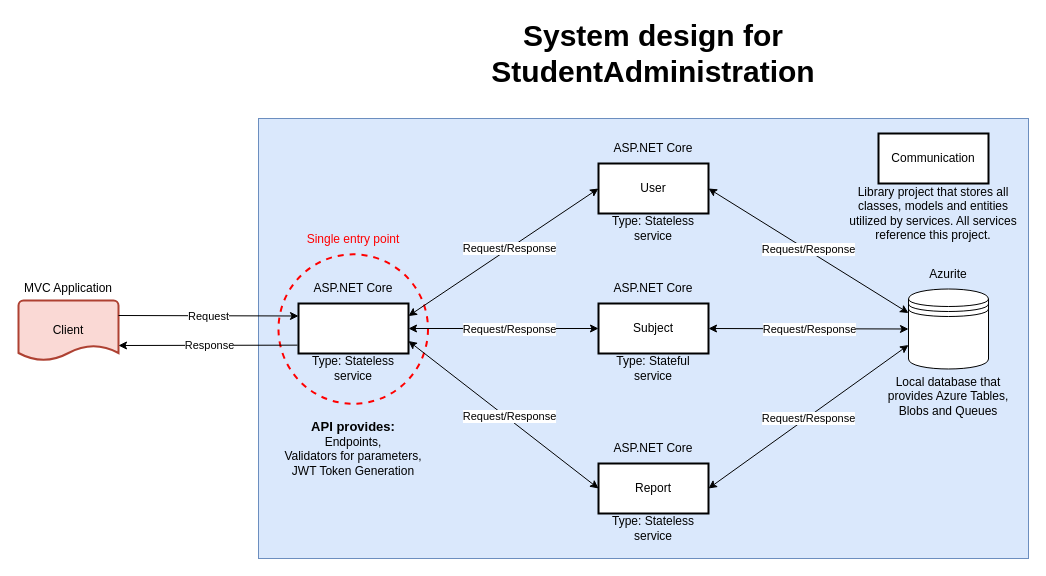
Some shapes in this 1046 by 576 pixel diagram are drawn without their labels. Each missing label, with the box of its shape:
API Gateway: (297, 302, 409, 354)
Database: (908, 288, 988, 369)
